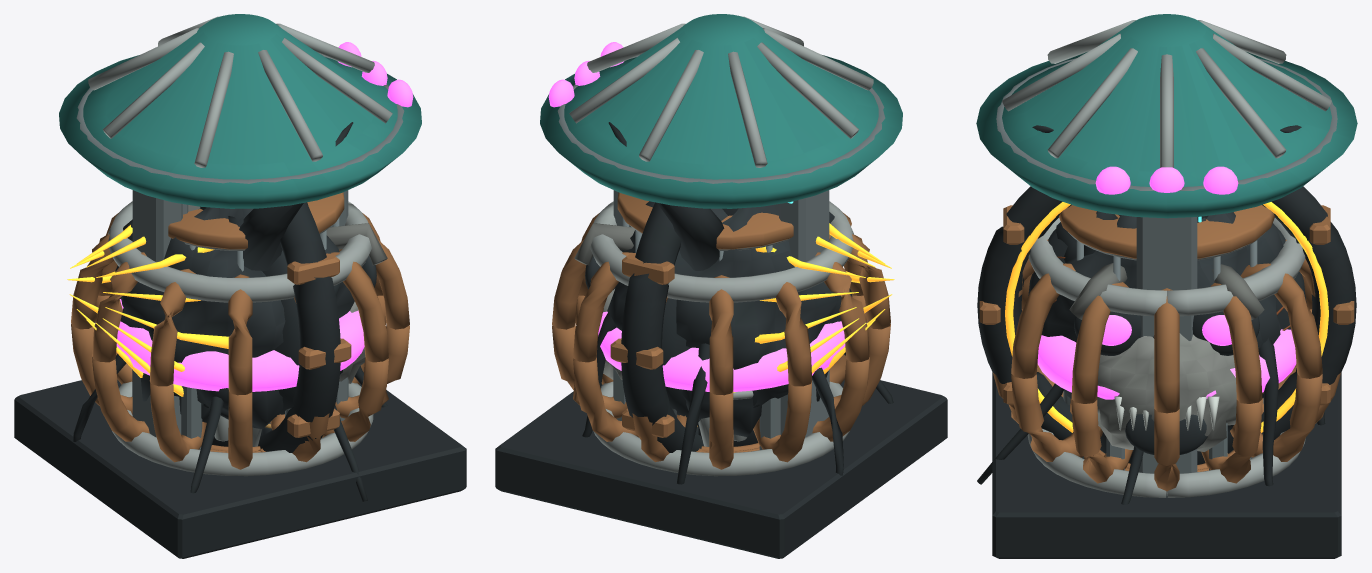
The model's file is cinder-production-reserve.glb.
3 views of the same model, side by side, from view 1: azimuth 30°, elevation 25°; view 2: azimuth 150°, elevation 25°; view 3: azimuth 270°, elevation 25° (orthographic). The views are drawn at different scales.
Visible parts, largest first — view 1: Tokamak_Assembly_Mesh, Prop_TechSquidSentinel_Carapace_Mesh, Prop_DeathComet_Core_Mesh, Prop_EyeOfCinder_Frame_Mesh, FaradayCage_Assembly_Mesh, Kit_FortressWall_Negative_Mesh, Prop_HornedComet_Core_Mesh, UpgradeStation_Assembly_Mesh, Prop_TechSquidSentinel__Motion_Tendril_2_Mesh, Prop_TechSquidSentinel__Motion_Tendril_1_Mesh, Prop_TechSquidSentinel__Motion_Tendril_3_Mesh; view 2: Tokamak_Assembly_Mesh, Prop_TechSquidSentinel_Carapace_Mesh, Prop_DeathComet_Core_Mesh, Prop_EyeOfCinder_Frame_Mesh, FaradayCage_Assembly_Mesh, Kit_FortressWall_Negative_Mesh, Prop_HornedComet_Core_Mesh, Prop_TechSquidSentinel__Motion_Tendril_4_Mesh, UpgradeStation_Assembly_Mesh, Prop_TechSquidSentinel__Motion_Tendril_3_Mesh, Prop_TechSquidSentinel__Motion_Tendril_5_Mesh; view 3: Tokamak_Assembly_Mesh, Prop_TechSquidSentinel_Carapace_Mesh, Prop_DeathComet_Core_Mesh, Prop_EyeOfCinder_Frame_Mesh, FaradayCage_Assembly_Mesh, Kit_FortressWall_Positive_Mesh, Prop_TechSquidSentinel__Motion_Tendril_5_Mesh, Prop_TechSquidSentinel__Motion_Tendril_1_Mesh, Prop_TechSquidSentinel__Motion_Tendril_0_Mesh, UpgradeStation_Assembly_Mesh.
Boxes of the visible parts, bbox=[...] form: Tokamak_Assembly_Mesh: bbox=[14, 201, 466, 558]; Prop_TechSquidSentinel_Carapace_Mesh: bbox=[59, 14, 421, 209]; Prop_DeathComet_Core_Mesh: bbox=[67, 207, 387, 429]; Prop_EyeOfCinder_Frame_Mesh: bbox=[258, 202, 351, 452]; FaradayCage_Assembly_Mesh: bbox=[168, 192, 344, 416]; Kit_FortressWall_Negative_Mesh: bbox=[132, 190, 182, 437]; Prop_HornedComet_Core_Mesh: bbox=[239, 122, 353, 270]; UpgradeStation_Assembly_Mesh: bbox=[132, 369, 348, 449]; Prop_TechSquidSentinel__Motion_Tendril_2_Mesh: bbox=[190, 216, 238, 493]; Prop_TechSquidSentinel__Motion_Tendril_1_Mesh: bbox=[307, 202, 367, 501]; Prop_TechSquidSentinel__Motion_Tendril_3_Mesh: bbox=[73, 354, 126, 441]; Tokamak_Assembly_Mesh: bbox=[495, 201, 947, 558]; Prop_TechSquidSentinel_Carapace_Mesh: bbox=[540, 14, 902, 215]; Prop_DeathComet_Core_Mesh: bbox=[574, 201, 894, 436]; Prop_EyeOfCinder_Frame_Mesh: bbox=[610, 202, 703, 452]; FaradayCage_Assembly_Mesh: bbox=[617, 192, 793, 416]; Kit_FortressWall_Negative_Mesh: bbox=[779, 190, 829, 437]; Prop_HornedComet_Core_Mesh: bbox=[608, 122, 724, 270]; Prop_TechSquidSentinel__Motion_Tendril_4_Mesh: bbox=[677, 343, 709, 484]; UpgradeStation_Assembly_Mesh: bbox=[613, 368, 829, 449]; Prop_TechSquidSentinel__Motion_Tendril_3_Mesh: bbox=[812, 367, 843, 475]; Prop_TechSquidSentinel__Motion_Tendril_5_Mesh: bbox=[582, 313, 616, 437]; Tokamak_Assembly_Mesh: bbox=[992, 218, 1341, 558]; Prop_TechSquidSentinel_Carapace_Mesh: bbox=[976, 14, 1357, 219]; Prop_DeathComet_Core_Mesh: bbox=[1041, 212, 1283, 454]; Prop_EyeOfCinder_Frame_Mesh: bbox=[977, 186, 1356, 440]; FaradayCage_Assembly_Mesh: bbox=[1059, 205, 1274, 458]; Kit_FortressWall_Positive_Mesh: bbox=[1136, 216, 1201, 473]; Prop_TechSquidSentinel__Motion_Tendril_5_Mesh: bbox=[1258, 337, 1278, 486]; Prop_TechSquidSentinel__Motion_Tendril_1_Mesh: bbox=[977, 211, 1118, 484]; Prop_TechSquidSentinel__Motion_Tendril_0_Mesh: bbox=[1121, 335, 1154, 504]; UpgradeStation_Assembly_Mesh: bbox=[1106, 423, 1227, 470].
Size of the model in its own units: 1.64 by 2.16 by 1.64.
